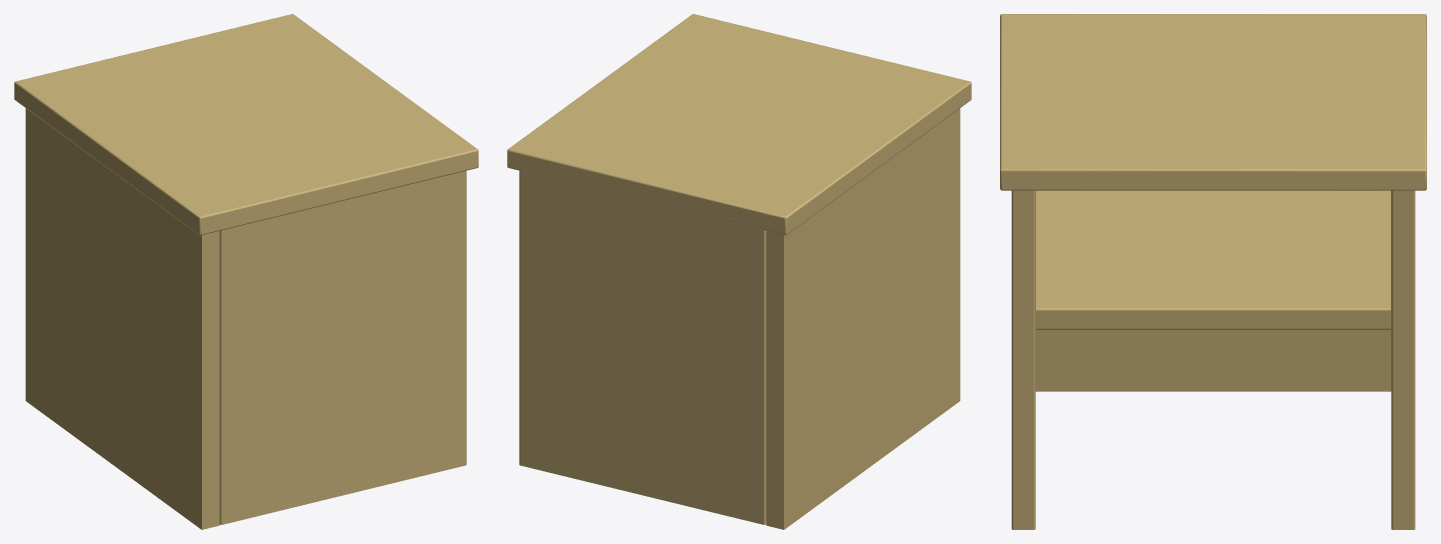
The model's file is nachttisch.fbx.
The picture shows the model from 3 angles, left to right: view 1: azimuth 30°, elevation 25°; view 2: azimuth 150°, elevation 25°; view 3: azimuth 270°, elevation 25°; orthographic projection. The views are drawn at different scales.
Parts seen in each view (by area): view 1: links, oben, hinten; view 2: rechts, oben, hinten; view 3: oben, mitte, hinten, links, rechts.
Boxes of the visible parts, x1,y1,x2,y2 form: links: [219, 170, 466, 524]; oben: [14, 14, 478, 235]; hinten: [25, 108, 219, 529]; rechts: [519, 170, 766, 524]; oben: [507, 14, 971, 235]; hinten: [766, 108, 960, 529]; oben: [1000, 14, 1426, 190]; mitte: [1036, 190, 1390, 329]; hinten: [1035, 191, 1391, 391]; links: [1011, 190, 1035, 529]; rechts: [1391, 190, 1415, 529].
Size of the model in its own units: 77.97 by 84.66 by 89.91.
